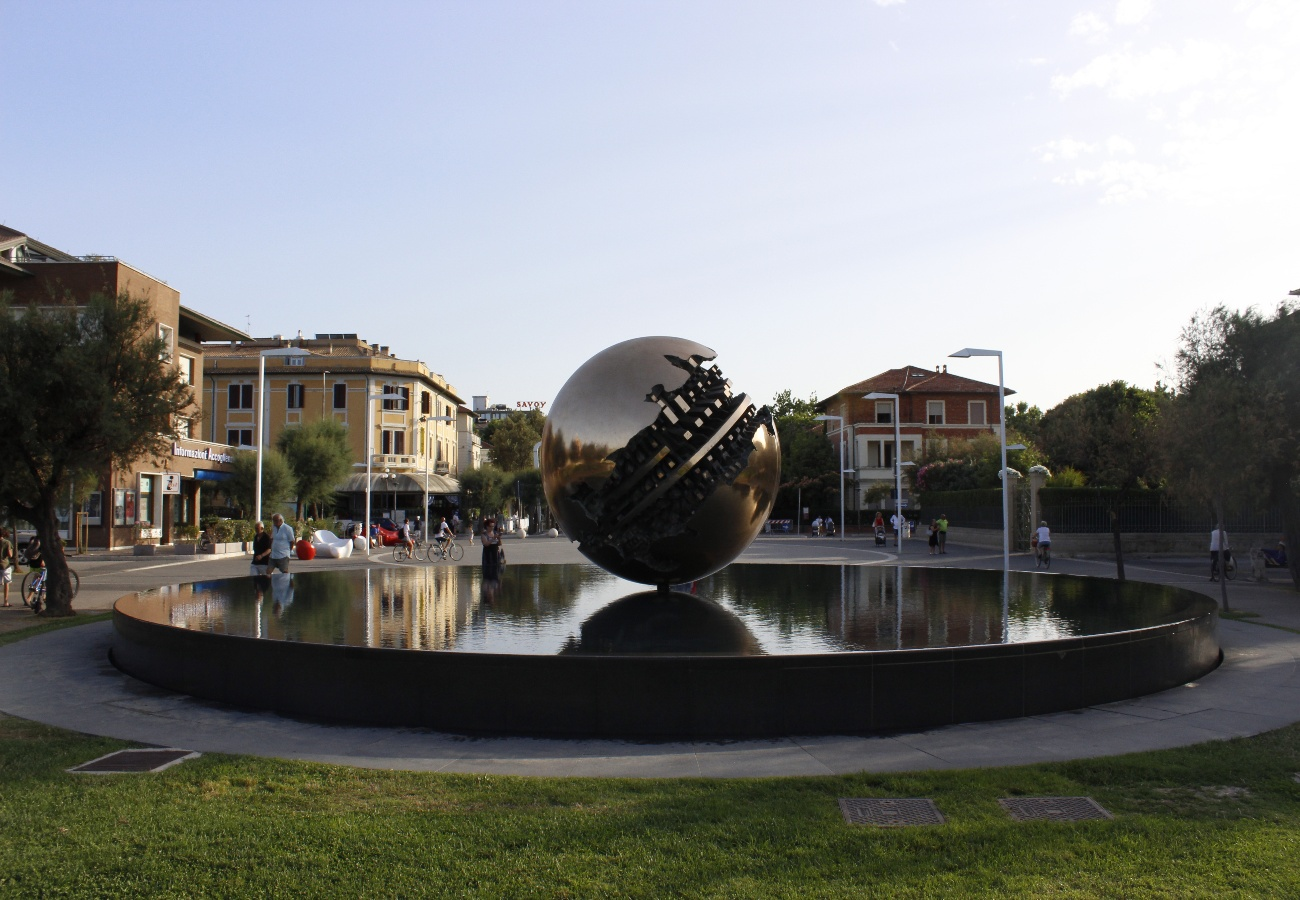Palla di Pomodoro: (538, 337, 784, 585)
